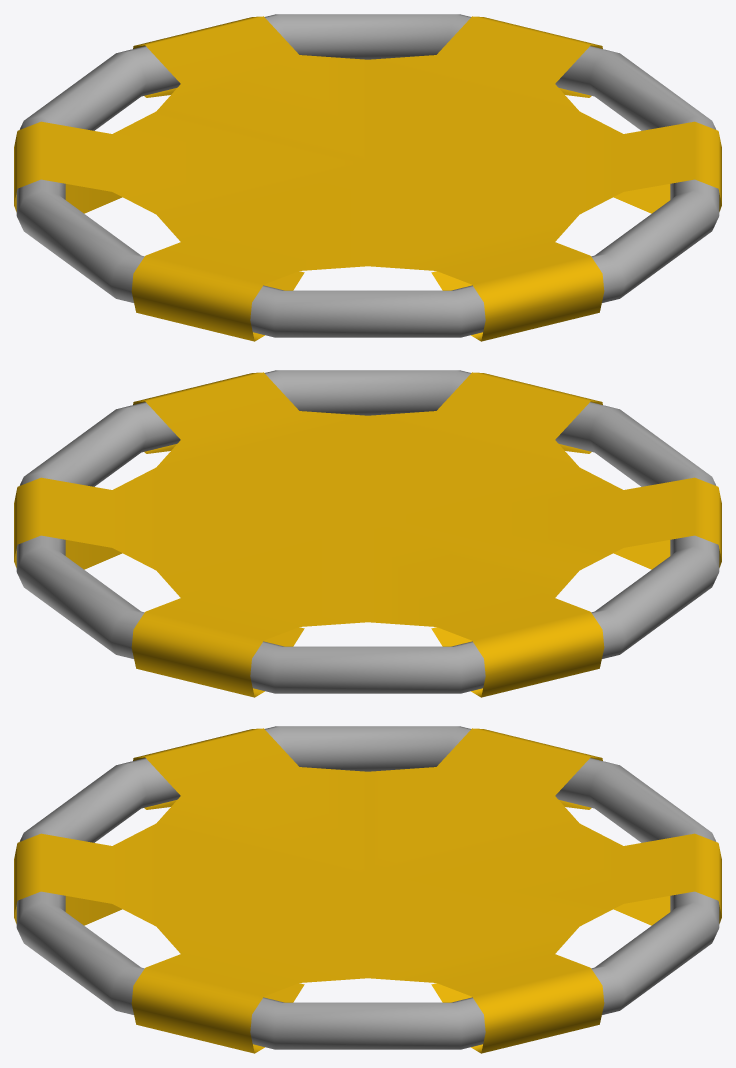
Rendered from trampoline.fbx.
The picture shows the model from 3 angles, top to bottom: view 1: azimuth 30°, elevation 25°; view 2: azimuth 150°, elevation 25°; view 3: azimuth 270°, elevation 25°; orthographic projection.
Parts seen in each view (by area): view 1: trampoline; view 2: trampoline; view 3: trampoline.
Part boxes in pixels (x1,y1,x2,y2): trampoline: [14, 14, 721, 341]; trampoline: [14, 370, 721, 697]; trampoline: [14, 726, 721, 1053].
Size of the model in its own units: 2.08 by 0.1686 by 2.09.
